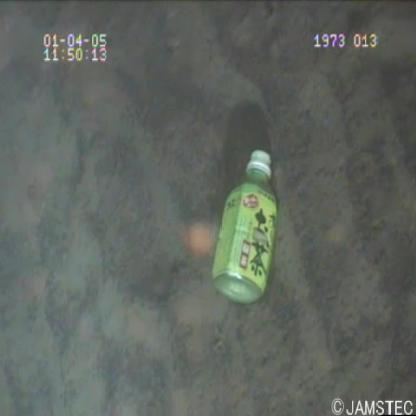Rác: (203, 141, 291, 319)
